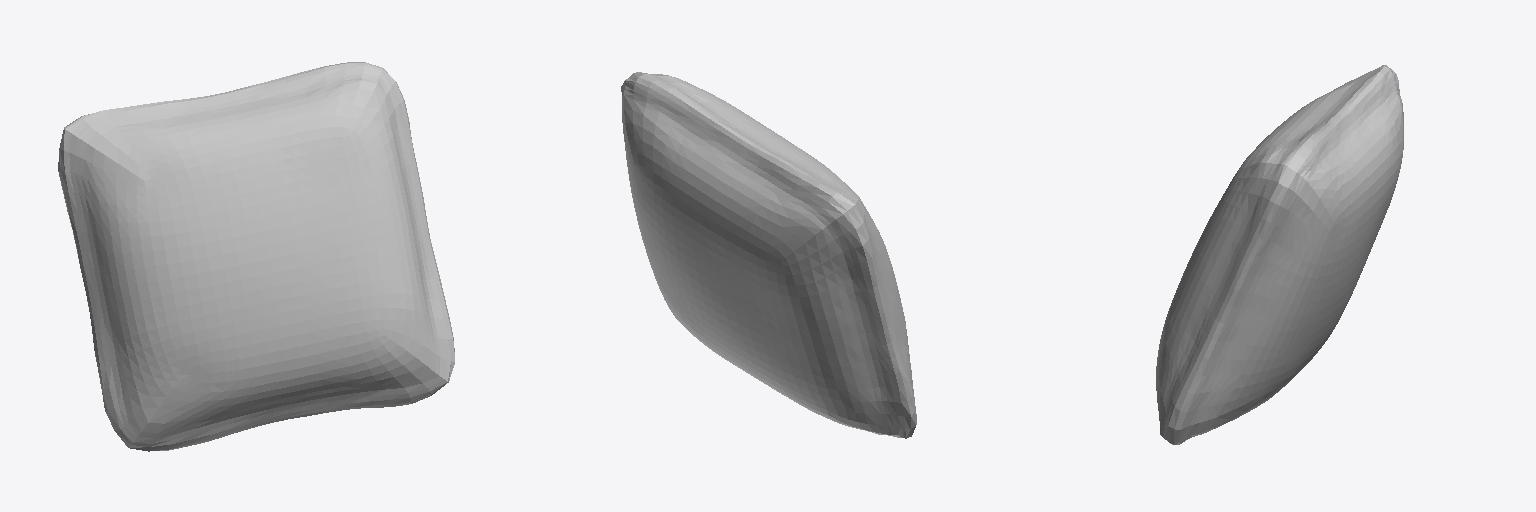
File: texturetest04.obj
3 renders of one model, left to right at view 1: azimuth 30°, elevation 25°; view 2: azimuth 150°, elevation 25°; view 3: azimuth 270°, elevation 25°, orthographic.
Visible parts, largest first — view 1: _Cushion_Large_0001:pCube1 Cushion_Large; view 2: _Cushion_Large_0001:pCube1 Cushion_Large; view 3: _Cushion_Large_0001:pCube1 Cushion_Large.
Part boxes in pixels (x1,y1,x2,y2): _Cushion_Large_0001:pCube1 Cushion_Large: (58,62,454,451); _Cushion_Large_0001:pCube1 Cushion_Large: (621,72,916,438); _Cushion_Large_0001:pCube1 Cushion_Large: (1156,65,1403,444).
Size of the model in its own units: 69.68 by 71.77 by 50.55.